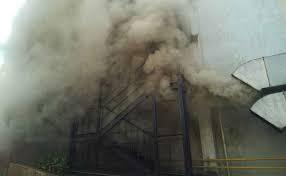smoke: (0, 0, 246, 159)
